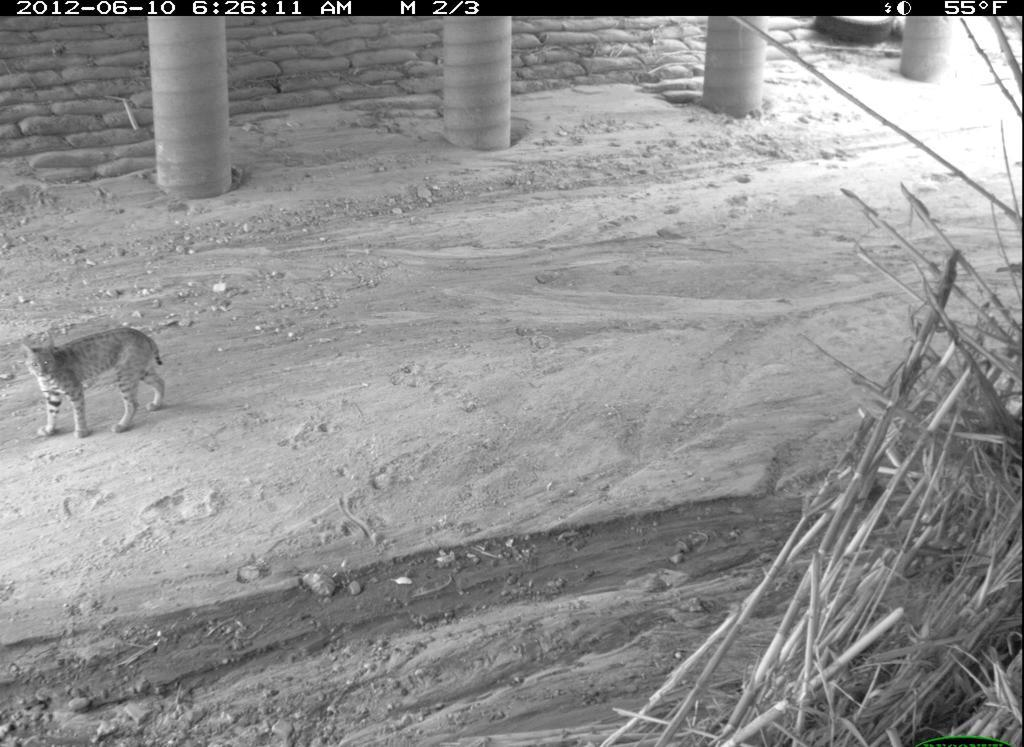bobcat: (17, 326, 184, 445)
